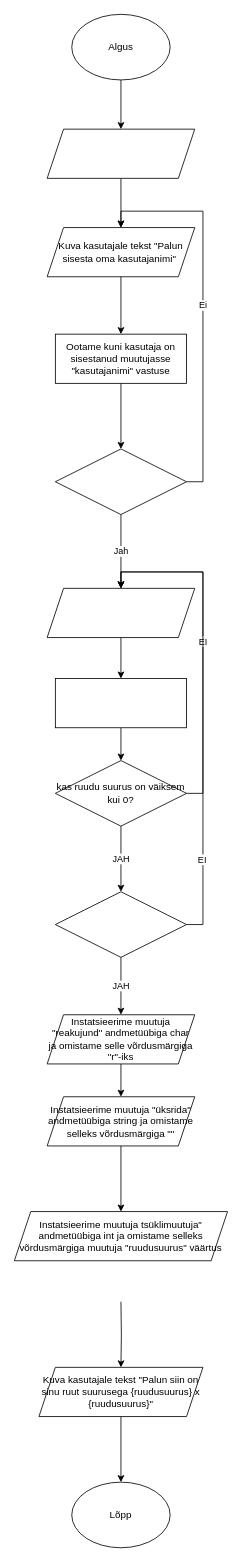
This 242x1562 diagram has some shape labels left out. The centre of each missing label's shape, as x and y in pixels:
kas ruudu suurus on suurem kui 20?: pixel 121 924
kas ta on sisestanud "user1"?: pixel 121 481
Kuva kasutajale tekst "Kui suurt ruutu tahad?": pixel 120 613
Ootame kuni kasutaja on sisestanud muutujasse "ruudusuurus" numbri: pixel 121 703
tekitame muutuja "kasutajanimi" string andmetüübiks: pixel 120 153
